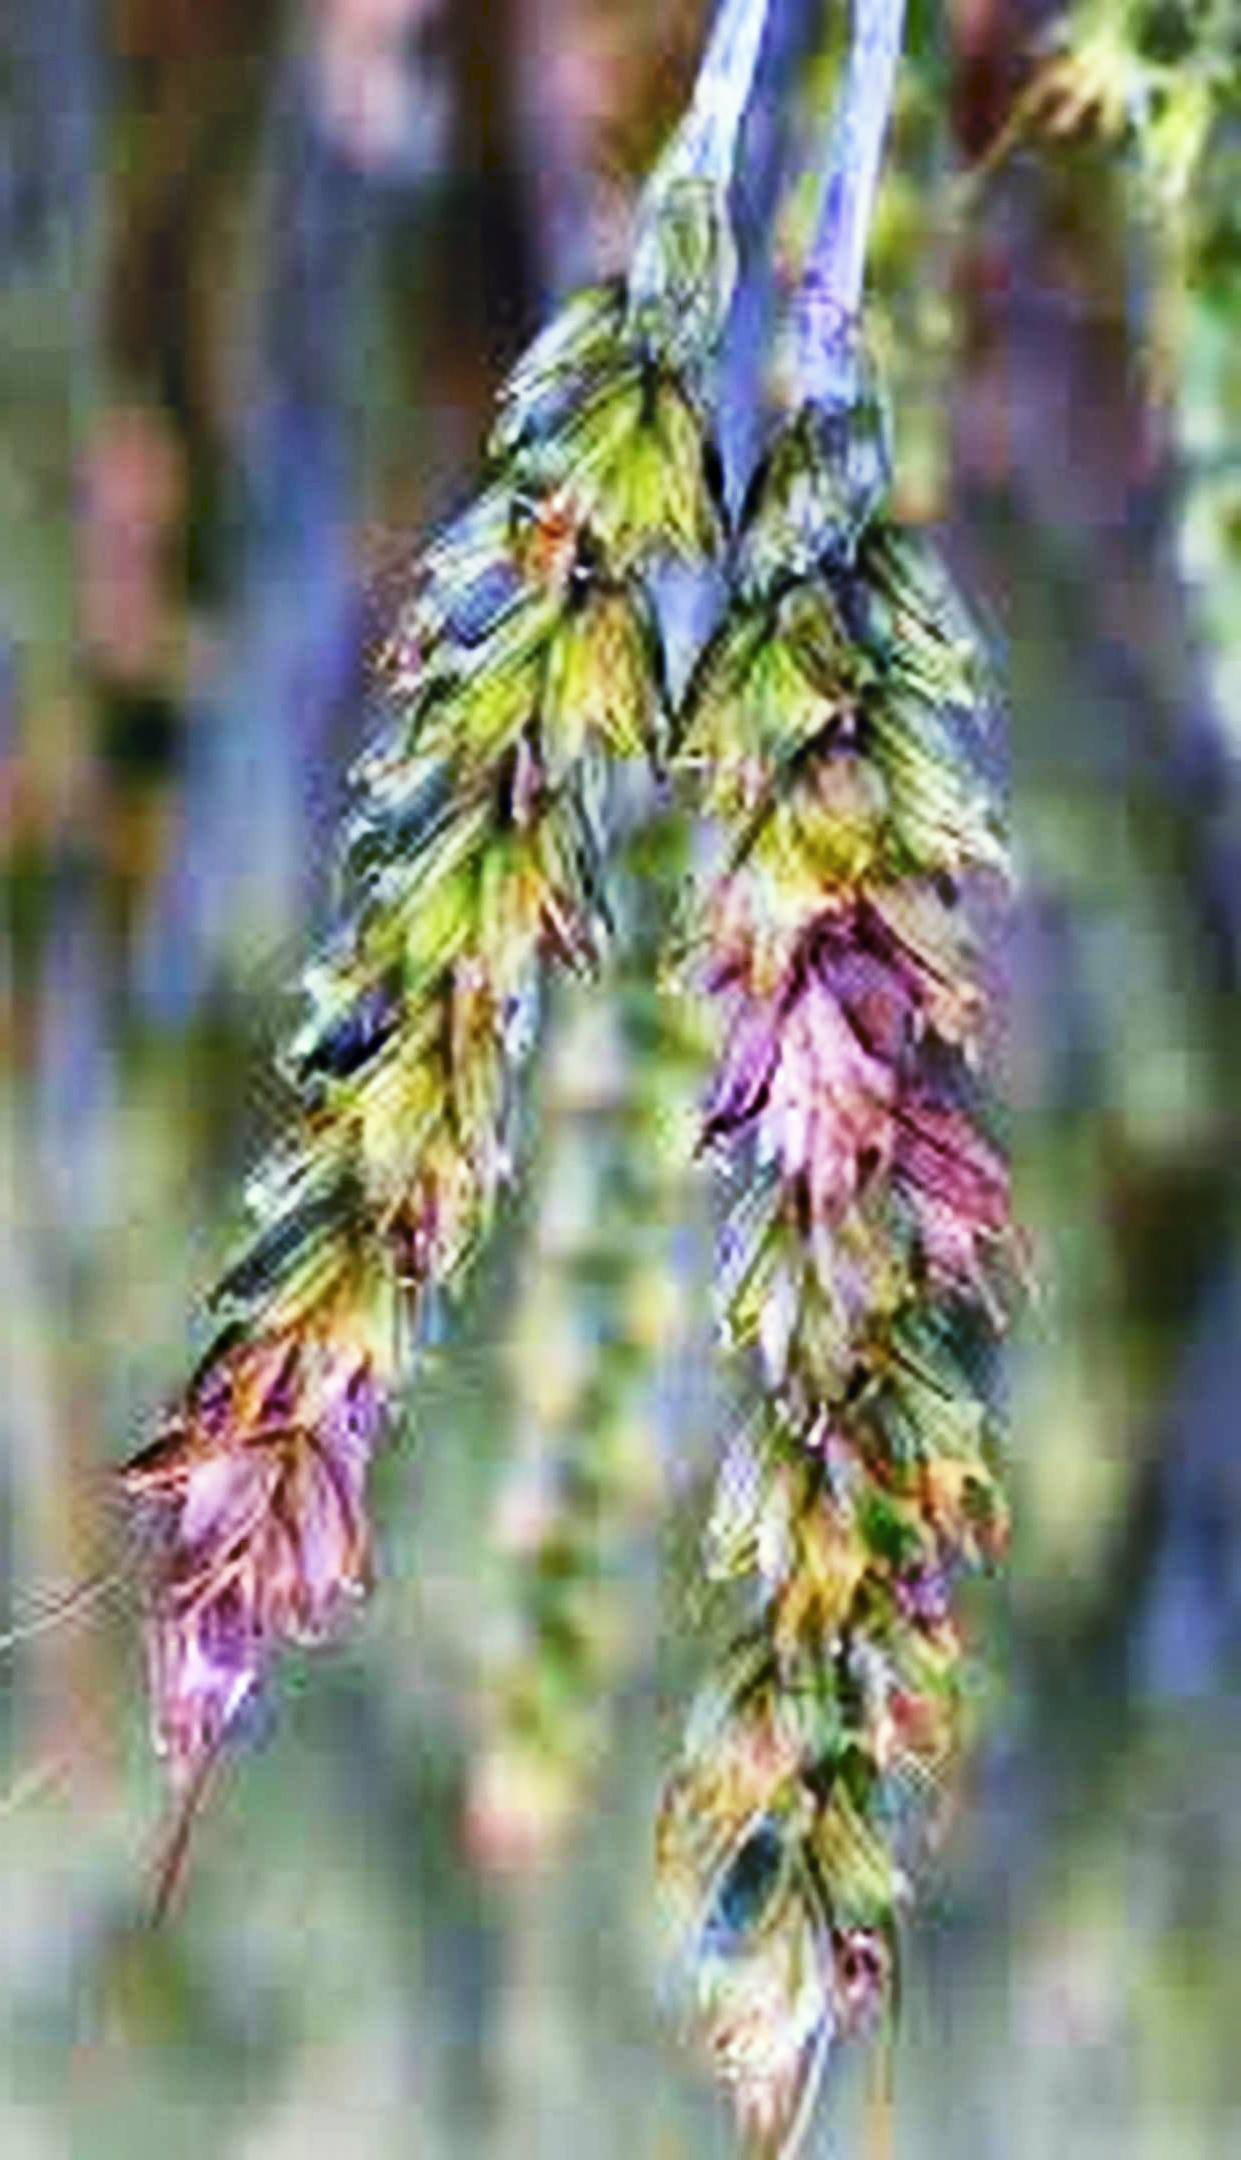Wheat scab: (102, 237, 646, 1722), (673, 294, 1014, 2099)
